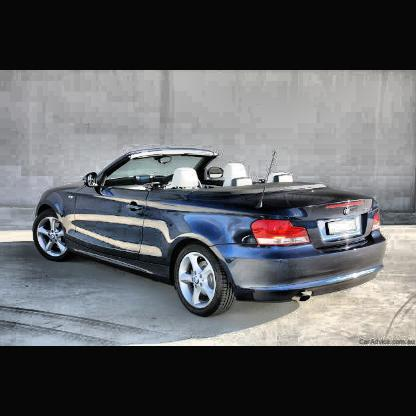BMW 1 Series Convertible 2012: (32, 142, 387, 319)
